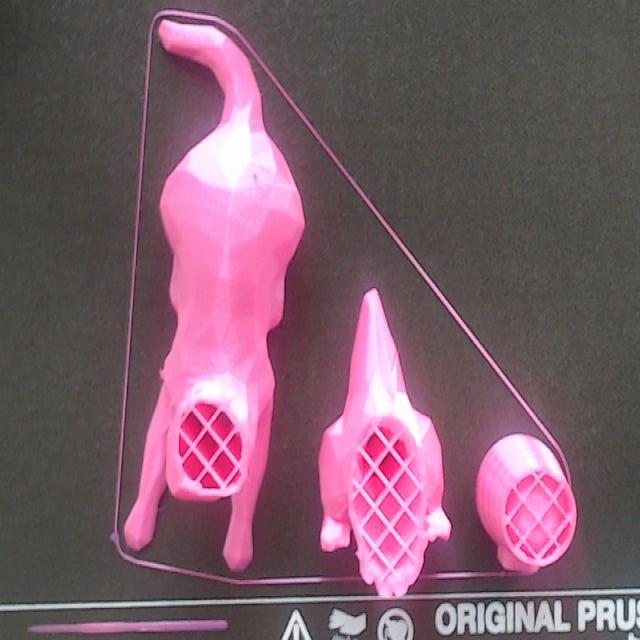mistake: (349, 547, 358, 565), (161, 368, 167, 389)
